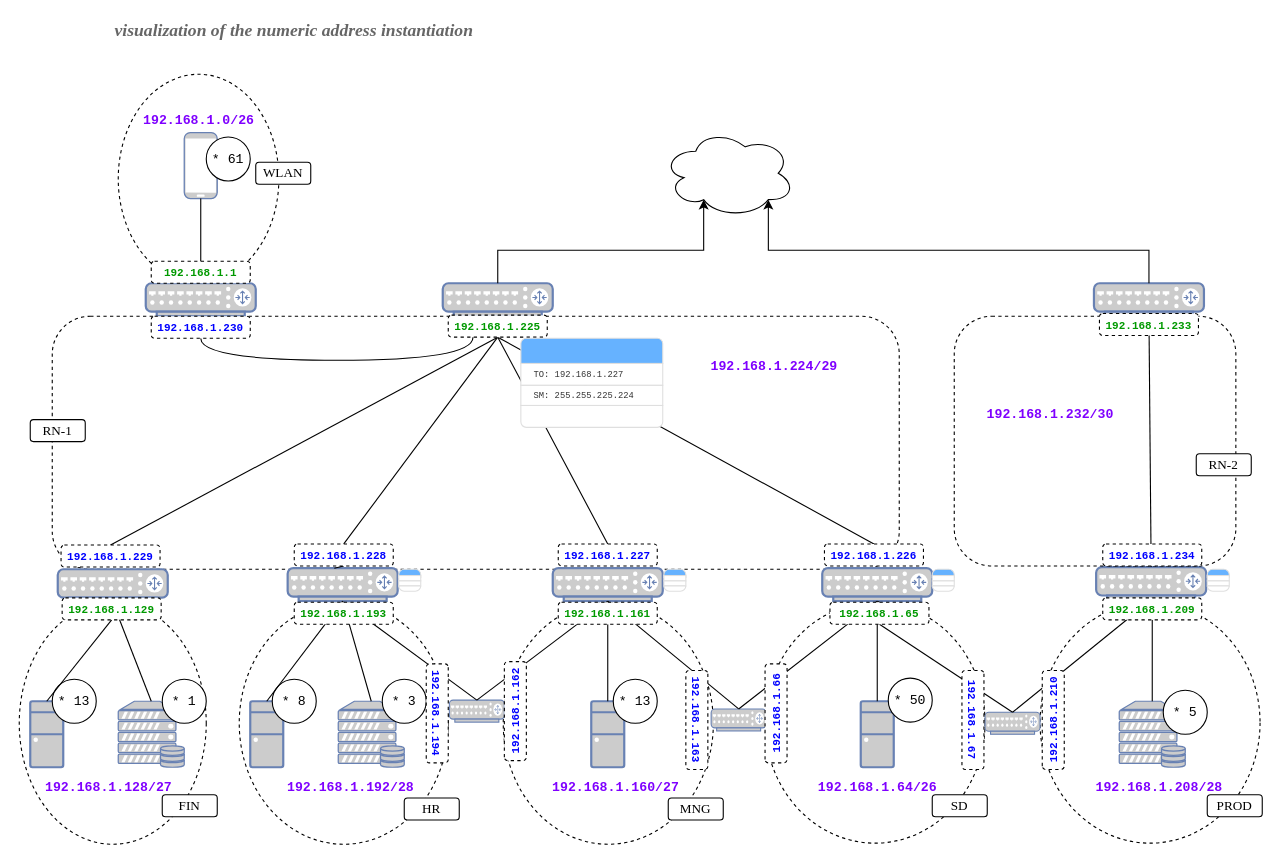
Image size: 1282x864. Some labels were removed from this diagram. The centre of each missing label's shape, as x and y in pixels:
"Internet" goes at (x=728, y=172).
"NA: 192.168.1.160" goes at (x=591, y=415).
"Route-TO-MNG" goes at (x=591, y=350).
